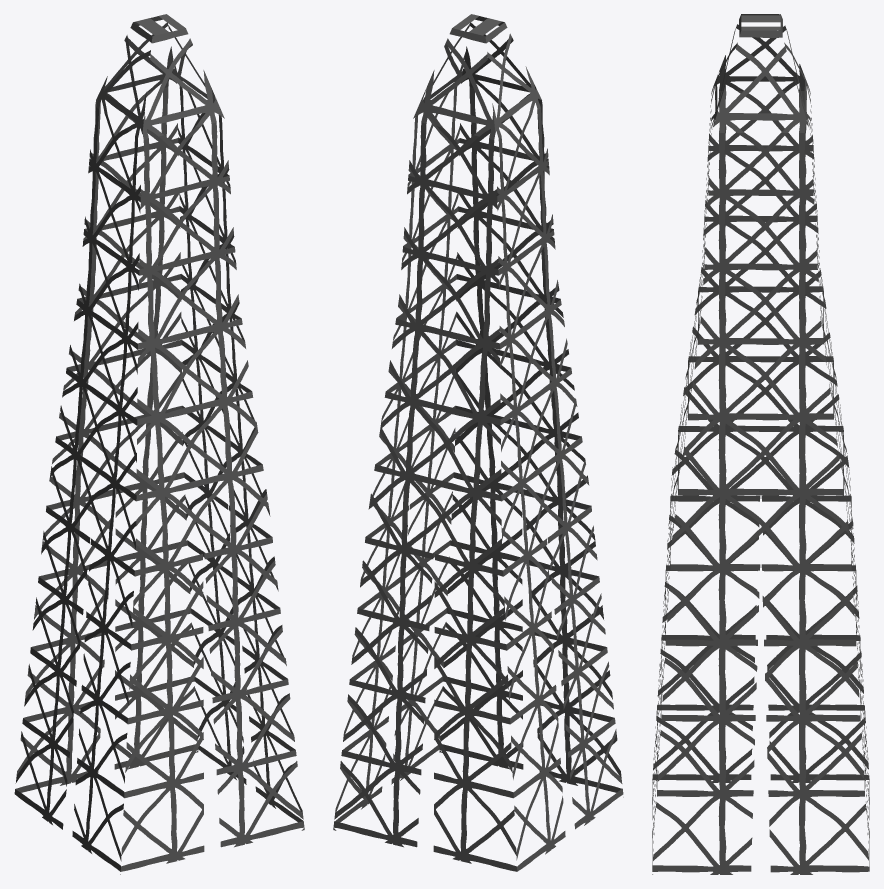
Rendered from Radio tower.fbx.
3 renders of one model, left to right at view 1: azimuth 30°, elevation 25°; view 2: azimuth 150°, elevation 25°; view 3: azimuth 270°, elevation 25°, orthographic. The views are drawn at different scales.
Parts seen in each view (by area): view 1: Tower; view 2: Tower; view 3: Tower.
Boxes of the visible parts, x1=… form: Tower: x1=14, y1=14, x2=304, y2=874; Tower: x1=333, y1=14, x2=623, y2=871; Tower: x1=652, y1=14, x2=869, y2=874.
Size of the model in its own units: 220 by 900 by 220.
Materials: 1 (1 with a texture image).
